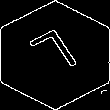L_SE: (25, 25, 85, 85)
